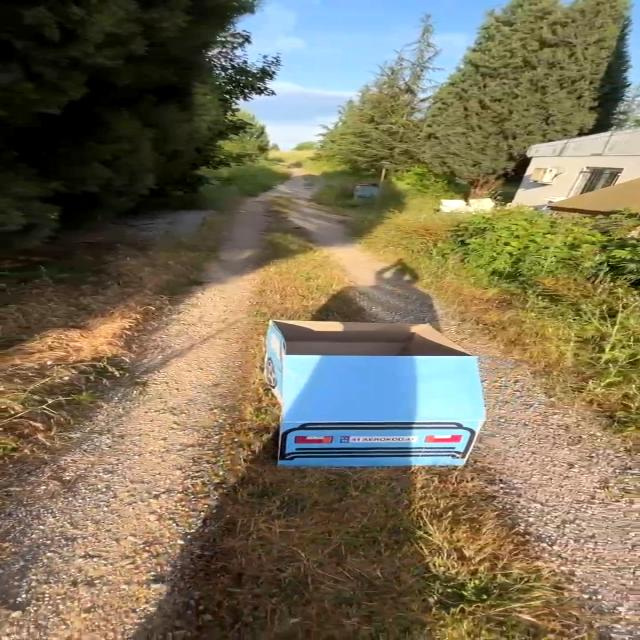blue_car: (209, 317, 546, 490)
